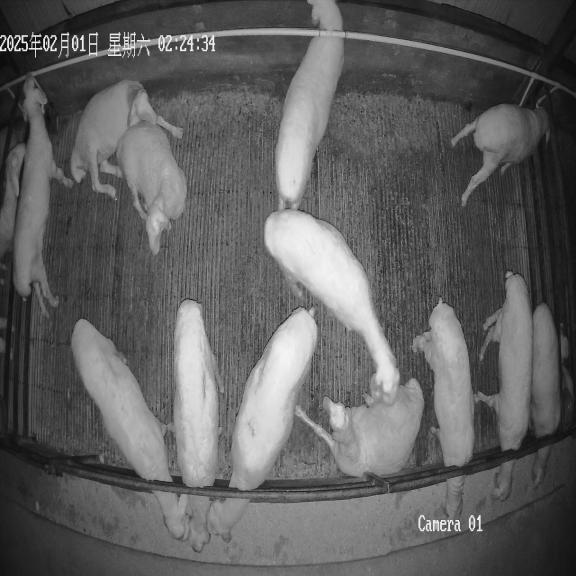eating: (206, 307, 318, 539), (72, 318, 188, 538), (413, 298, 474, 524), (173, 300, 224, 552), (477, 272, 532, 502), (530, 303, 561, 491)
lying: (70, 80, 183, 199), (295, 378, 424, 477), (116, 119, 187, 255)
stand: (264, 210, 399, 396), (13, 76, 71, 318), (275, 34, 344, 210), (451, 104, 551, 206), (307, 0, 342, 32)
